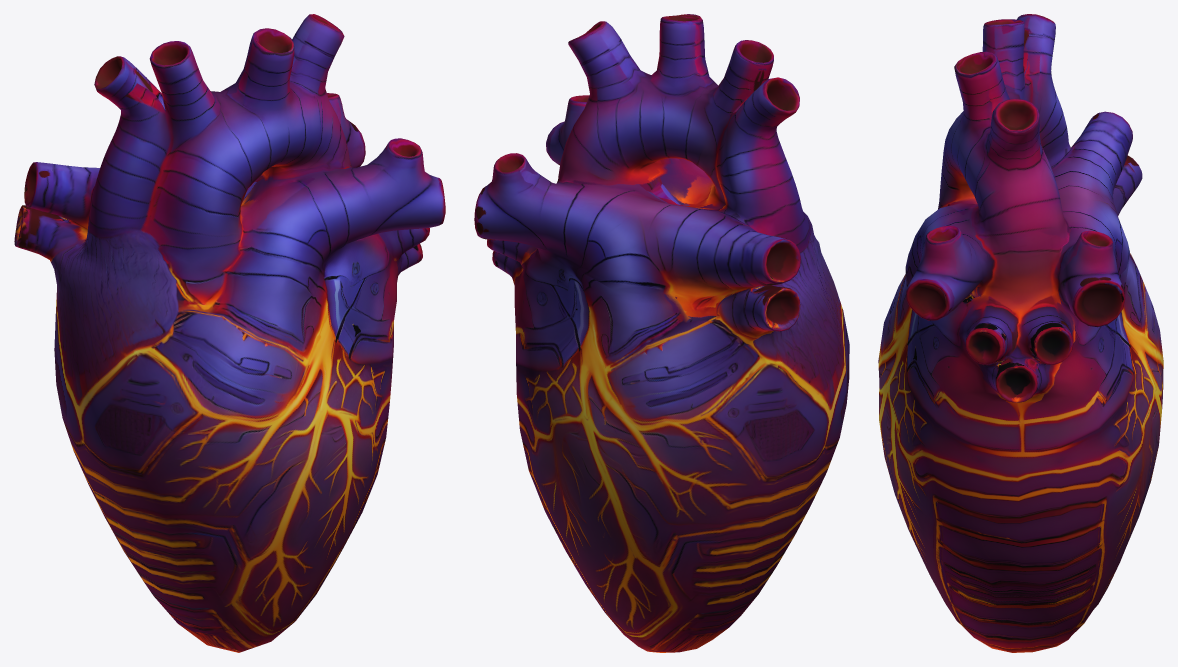
The model's file is Hearth.fbx.
3 views of the same model, side by side, from view 1: azimuth 30°, elevation 25°; view 2: azimuth 150°, elevation 25°; view 3: azimuth 270°, elevation 25° (orthographic). The views are drawn at different scales.
Visible parts, largest first — view 1: Cube; view 2: Cube; view 3: Cube.
Part boxes in pixels (<box>): Cube: <box>14,14,445,652</box>; Cube: <box>474,14,849,652</box>; Cube: <box>878,14,1163,652</box>.
Size of the model in its own units: 56.69 by 96.49 by 41.51.
